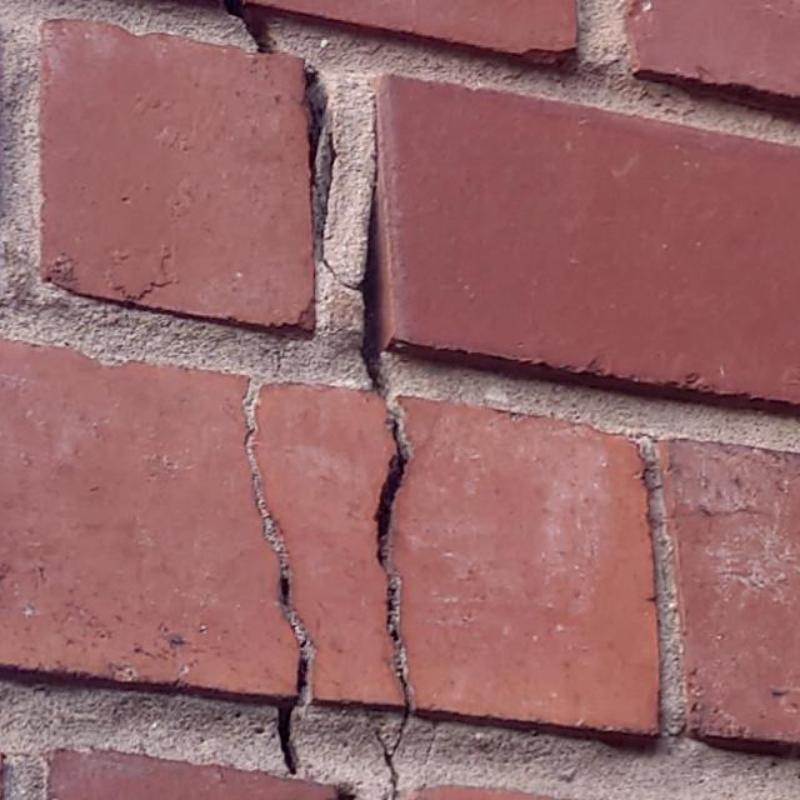pothole: (362, 184, 412, 799), (262, 502, 312, 775), (305, 66, 334, 258), (224, 0, 273, 53), (320, 256, 361, 292)
